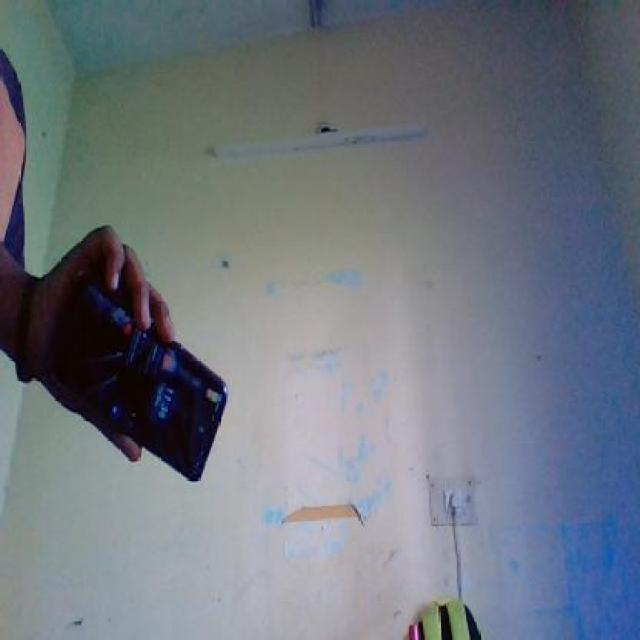Phone: (45, 258, 233, 486)
